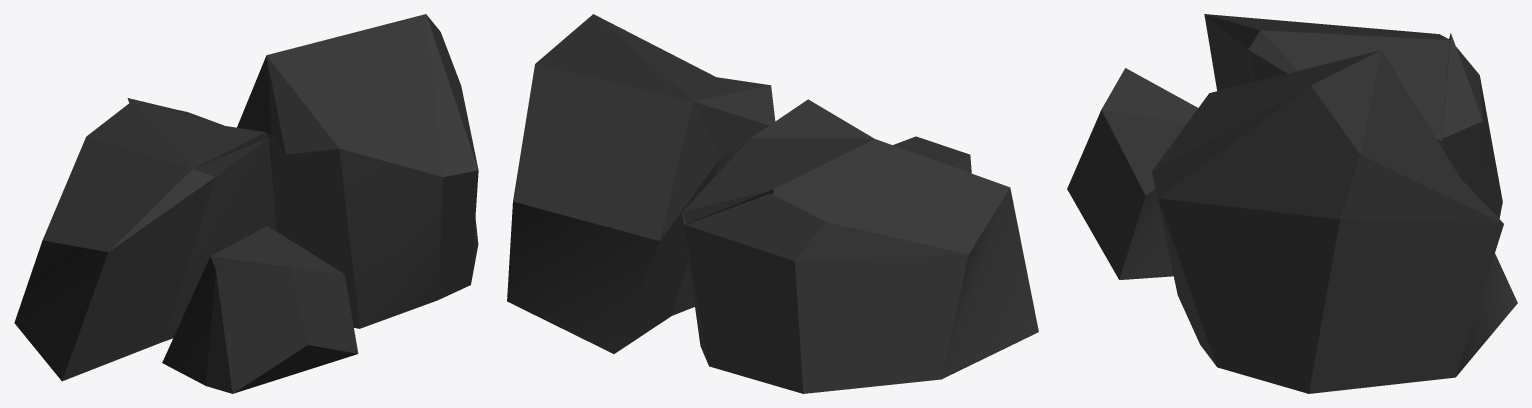
Rendered from Rocks_01_v01.fbx.
The picture shows the model from 3 angles, left to right: view 1: azimuth 30°, elevation 25°; view 2: azimuth 150°, elevation 25°; view 3: azimuth 270°, elevation 25°; orthographic projection. The views are drawn at different scales.
Visible parts, largest first — view 1: Stones_2_AO.002, Stones_2_AO.017, Stones_2_AO.007, Stones_2_AO.012, Stones_2_AO.009, Stones_2_AO.006, Stones_2_AO.013, Stones_2_AO.018, Stones_2_AO.008, Stones_2_AO.019; view 2: Stones_2_AO.013, Stones_2_AO.012, Stones_2_AO.003, Stones_2_AO.005, Stones_2_AO.015, Stones_2_AO.014, Stones_2_AO.002, Stones_2_AO.008, Stones_2_AO.009, Stones_2_AO.006, Stones_2_AO.016; view 3: Stones_2_AO.004, Stones_2_AO.002, Stones_2_AO.003, Stones_2_AO.018, Stones_2_AO.012, Stones_2_AO.015, Stones_2_AO.009, Stones_2_AO.005, Stones_2_AO.016, Stones_2_AO.017, Stones_2_AO.007, Stones_2_AO.001 (+1 smaller).
Part boxes in pixels (x1,y1,x2,y2): Stones_2_AO.002: [266, 14, 478, 176]; Stones_2_AO.017: [62, 138, 276, 381]; Stones_2_AO.007: [339, 148, 478, 328]; Stones_2_AO.012: [43, 101, 268, 251]; Stones_2_AO.009: [162, 256, 307, 393]; Stones_2_AO.006: [271, 134, 359, 328]; Stones_2_AO.013: [14, 240, 107, 380]; Stones_2_AO.018: [211, 226, 358, 353]; Stones_2_AO.008: [237, 55, 338, 154]; Stones_2_AO.019: [233, 345, 357, 393]; Stones_2_AO.013: [795, 188, 1038, 393]; Stones_2_AO.012: [682, 99, 1009, 254]; Stones_2_AO.003: [513, 64, 693, 240]; Stones_2_AO.005: [507, 158, 720, 353]; Stones_2_AO.015: [682, 212, 803, 393]; Stones_2_AO.014: [684, 193, 967, 261]; Stones_2_AO.002: [535, 14, 769, 101]; Stones_2_AO.008: [660, 85, 775, 240]; Stones_2_AO.009: [908, 136, 971, 173]; Stones_2_AO.006: [672, 145, 743, 315]; Stones_2_AO.016: [683, 189, 773, 224]; Stones_2_AO.004: [1158, 198, 1503, 393]; Stones_2_AO.002: [1152, 50, 1381, 219]; Stones_2_AO.003: [1340, 50, 1503, 223]; Stones_2_AO.018: [1067, 110, 1186, 279]; Stones_2_AO.012: [1205, 14, 1449, 140]; Stones_2_AO.015: [1442, 77, 1502, 218]; Stones_2_AO.009: [1101, 68, 1197, 122]; Stones_2_AO.005: [1456, 253, 1517, 376]; Stones_2_AO.016: [1442, 33, 1482, 139]; Stones_2_AO.017: [1204, 14, 1253, 90]; Stones_2_AO.007: [1153, 180, 1216, 366]; Stones_2_AO.001: [1248, 50, 1442, 148].
Size of the model in its own units: 3.24 by 1.66 by 2.42.
1 material, 1 textured.
